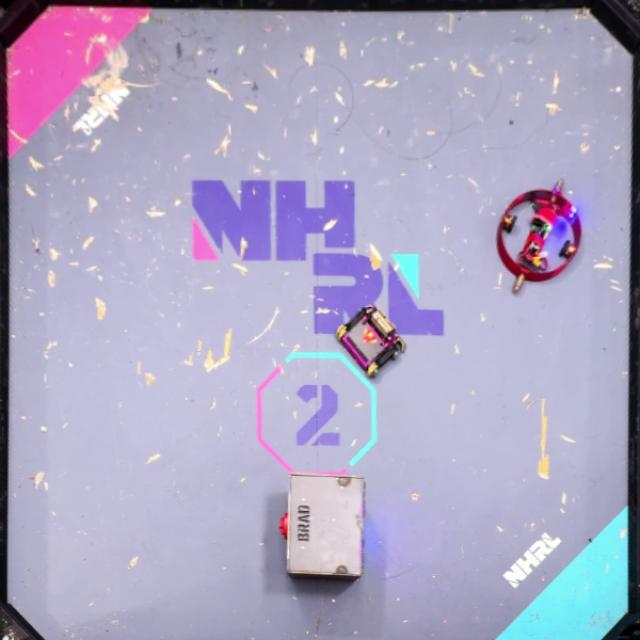housebot: (278, 474, 366, 585)
robot: (497, 179, 582, 293), (336, 303, 405, 380)
